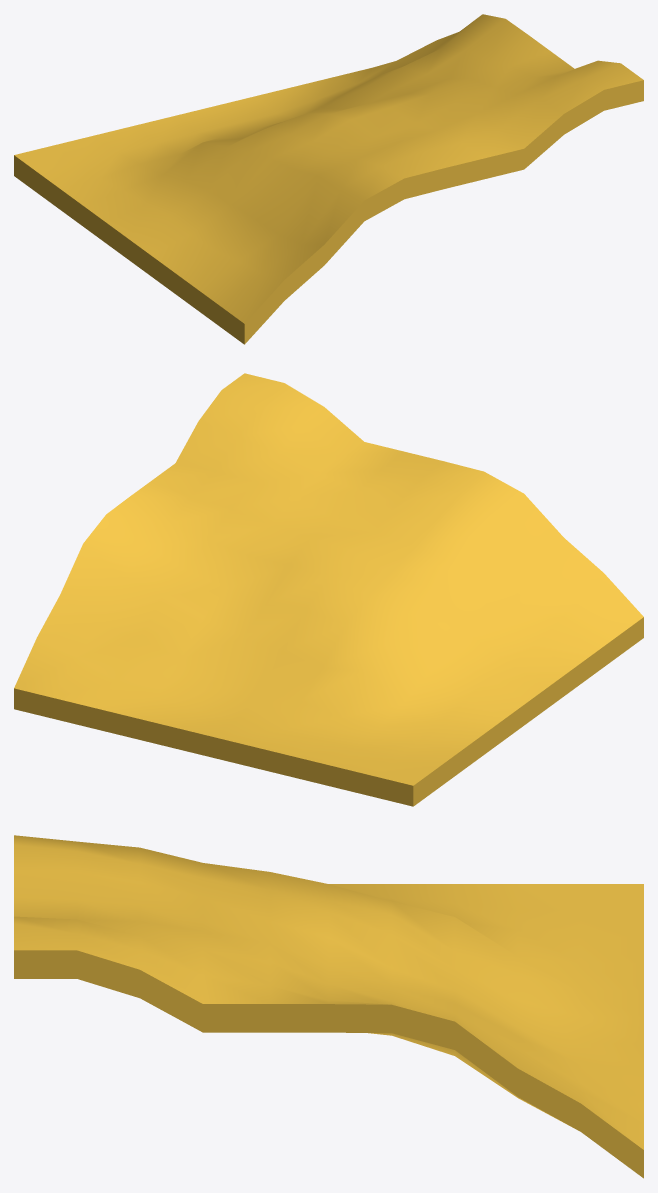
File: Flach - Mitte - Ecke b - b.fbx
3 renders of one model, top to bottom at view 1: azimuth 30°, elevation 25°; view 2: azimuth 150°, elevation 25°; view 3: azimuth 270°, elevation 25°, orthographic. The views are drawn at different scales.
Parts seen in each view (by area): view 1: Flach - Mitte - Ecke b - b; view 2: Flach - Mitte - Ecke b - b; view 3: Flach - Mitte - Ecke b - b.
Boxes of the visible parts, x1,y1,x2,y2 form: Flach - Mitte - Ecke b - b: (14,14,643,344); Flach - Mitte - Ecke b - b: (14,373,643,806); Flach - Mitte - Ecke b - b: (14,835,643,1178).
Size of the model in its own units: 394 by 157 by 394.
